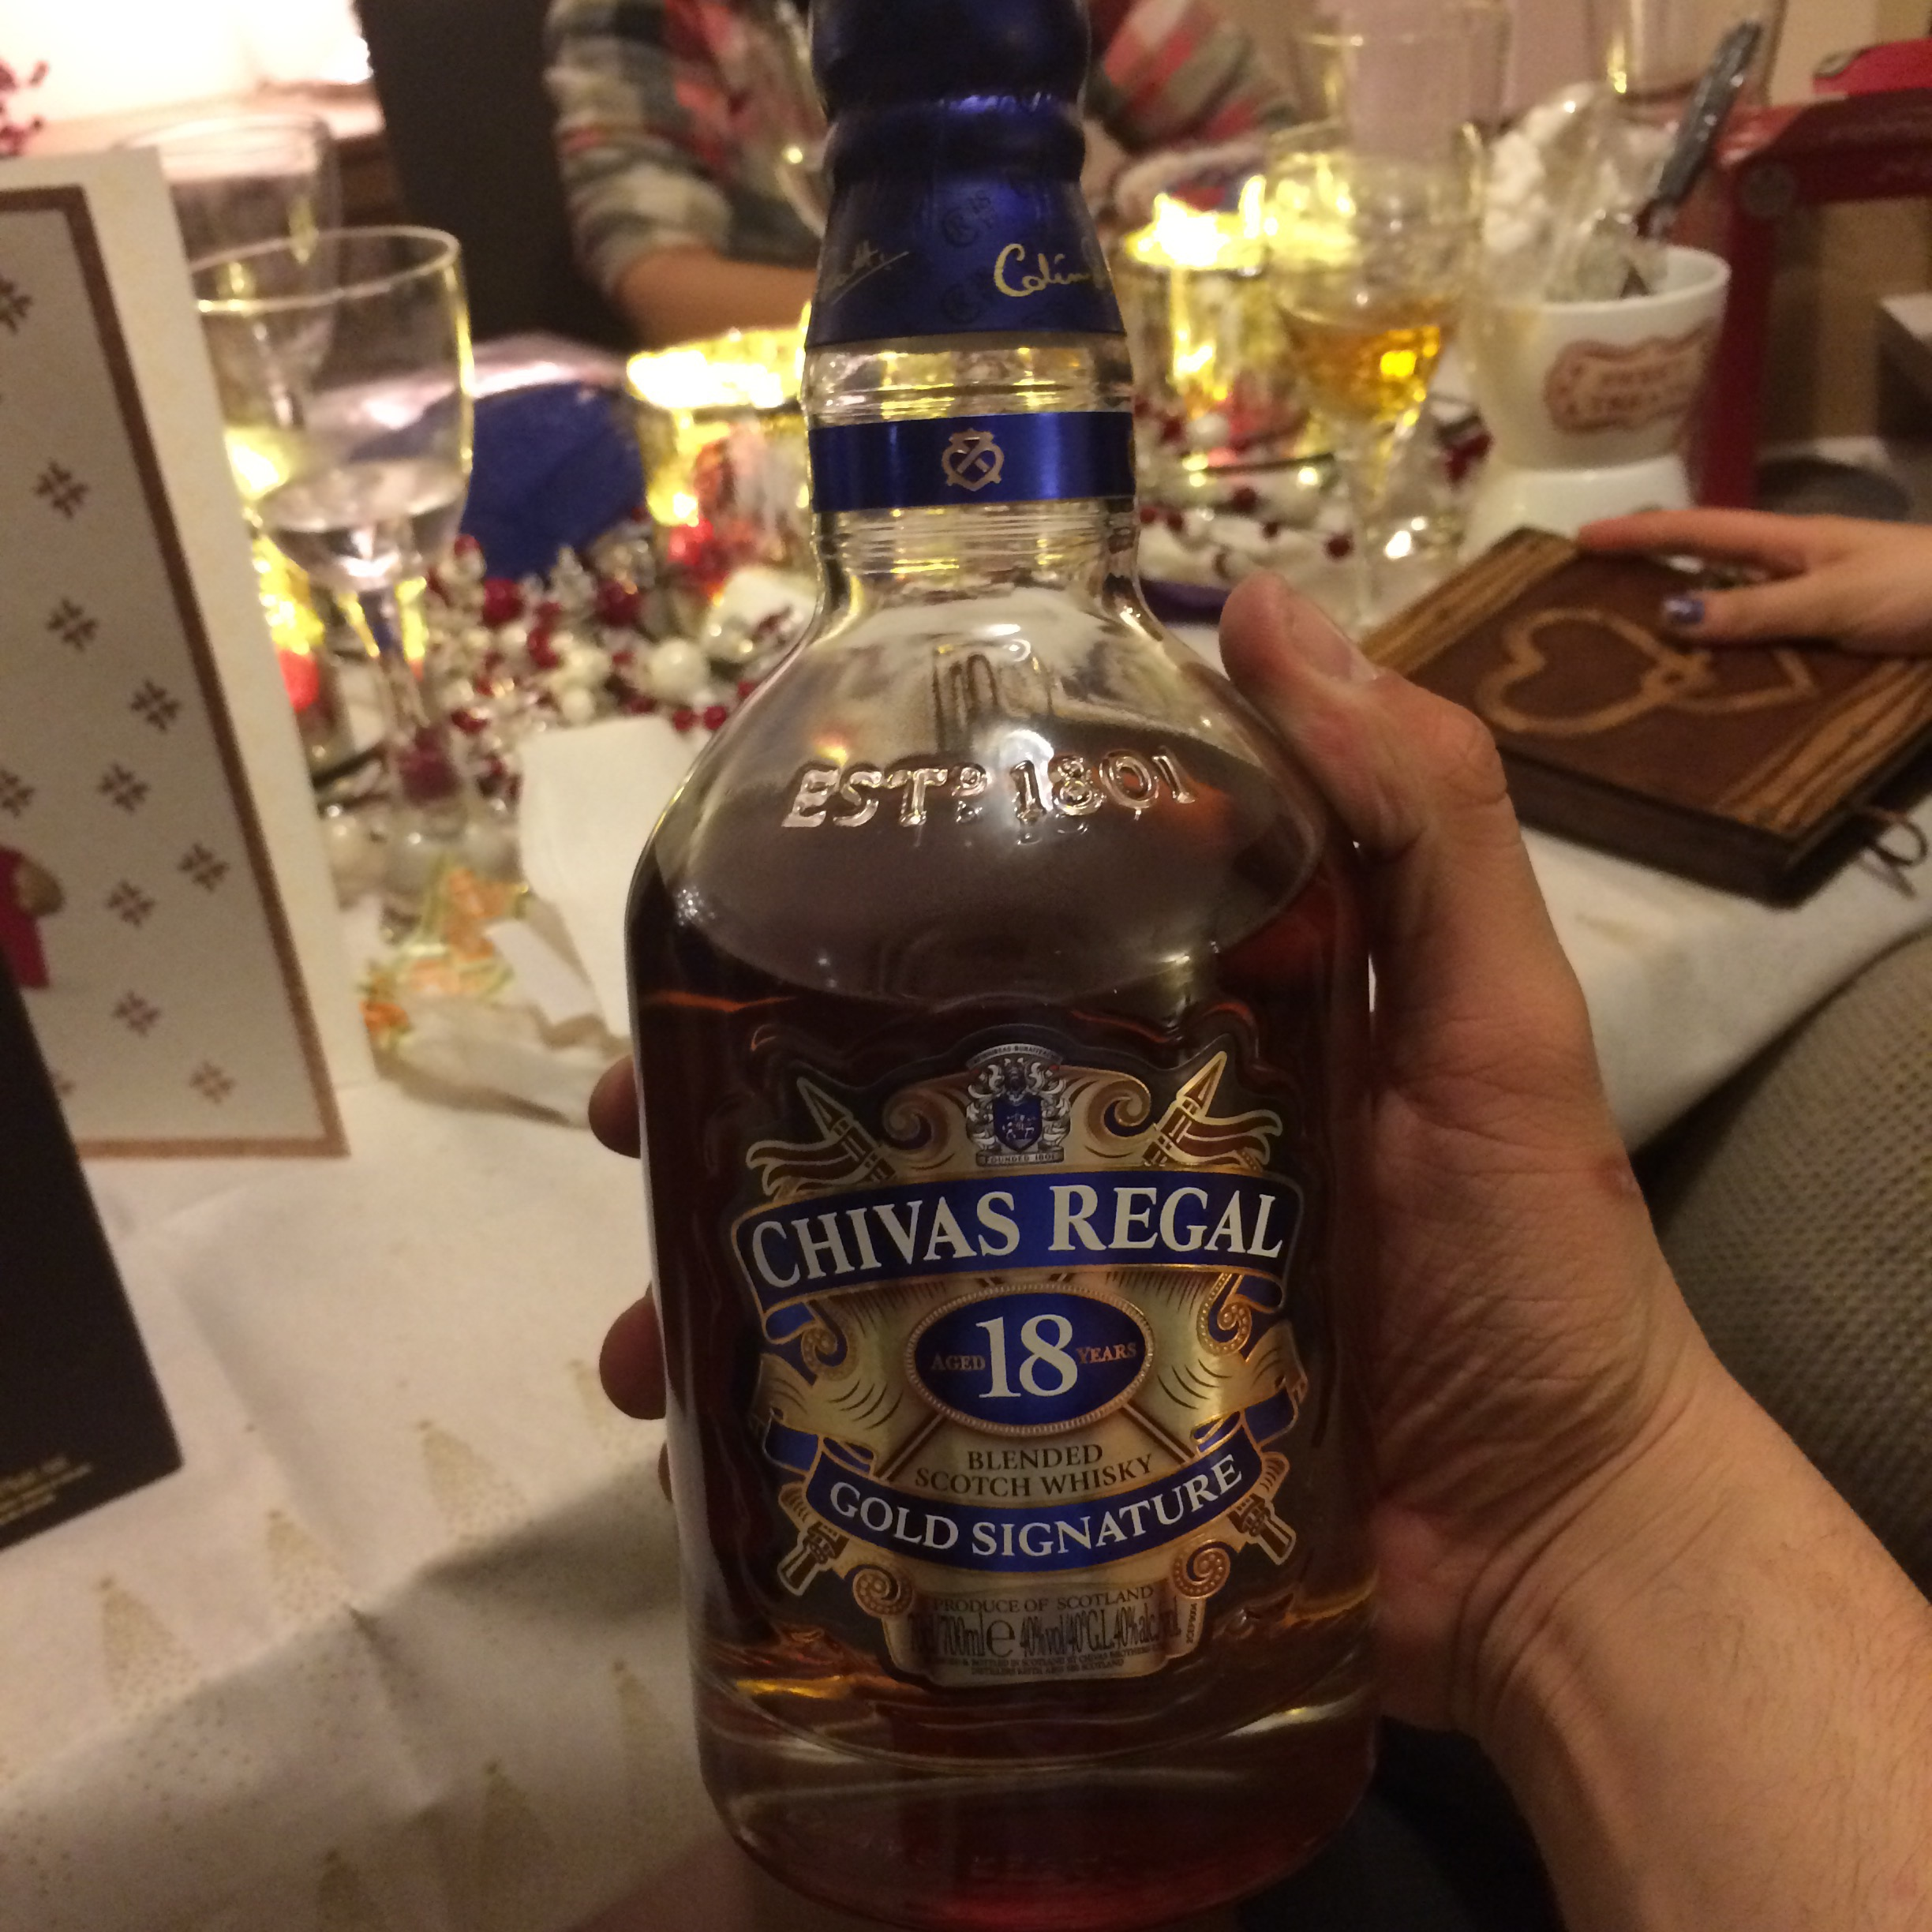Chivas Regal: (602, 5, 1407, 1928)
